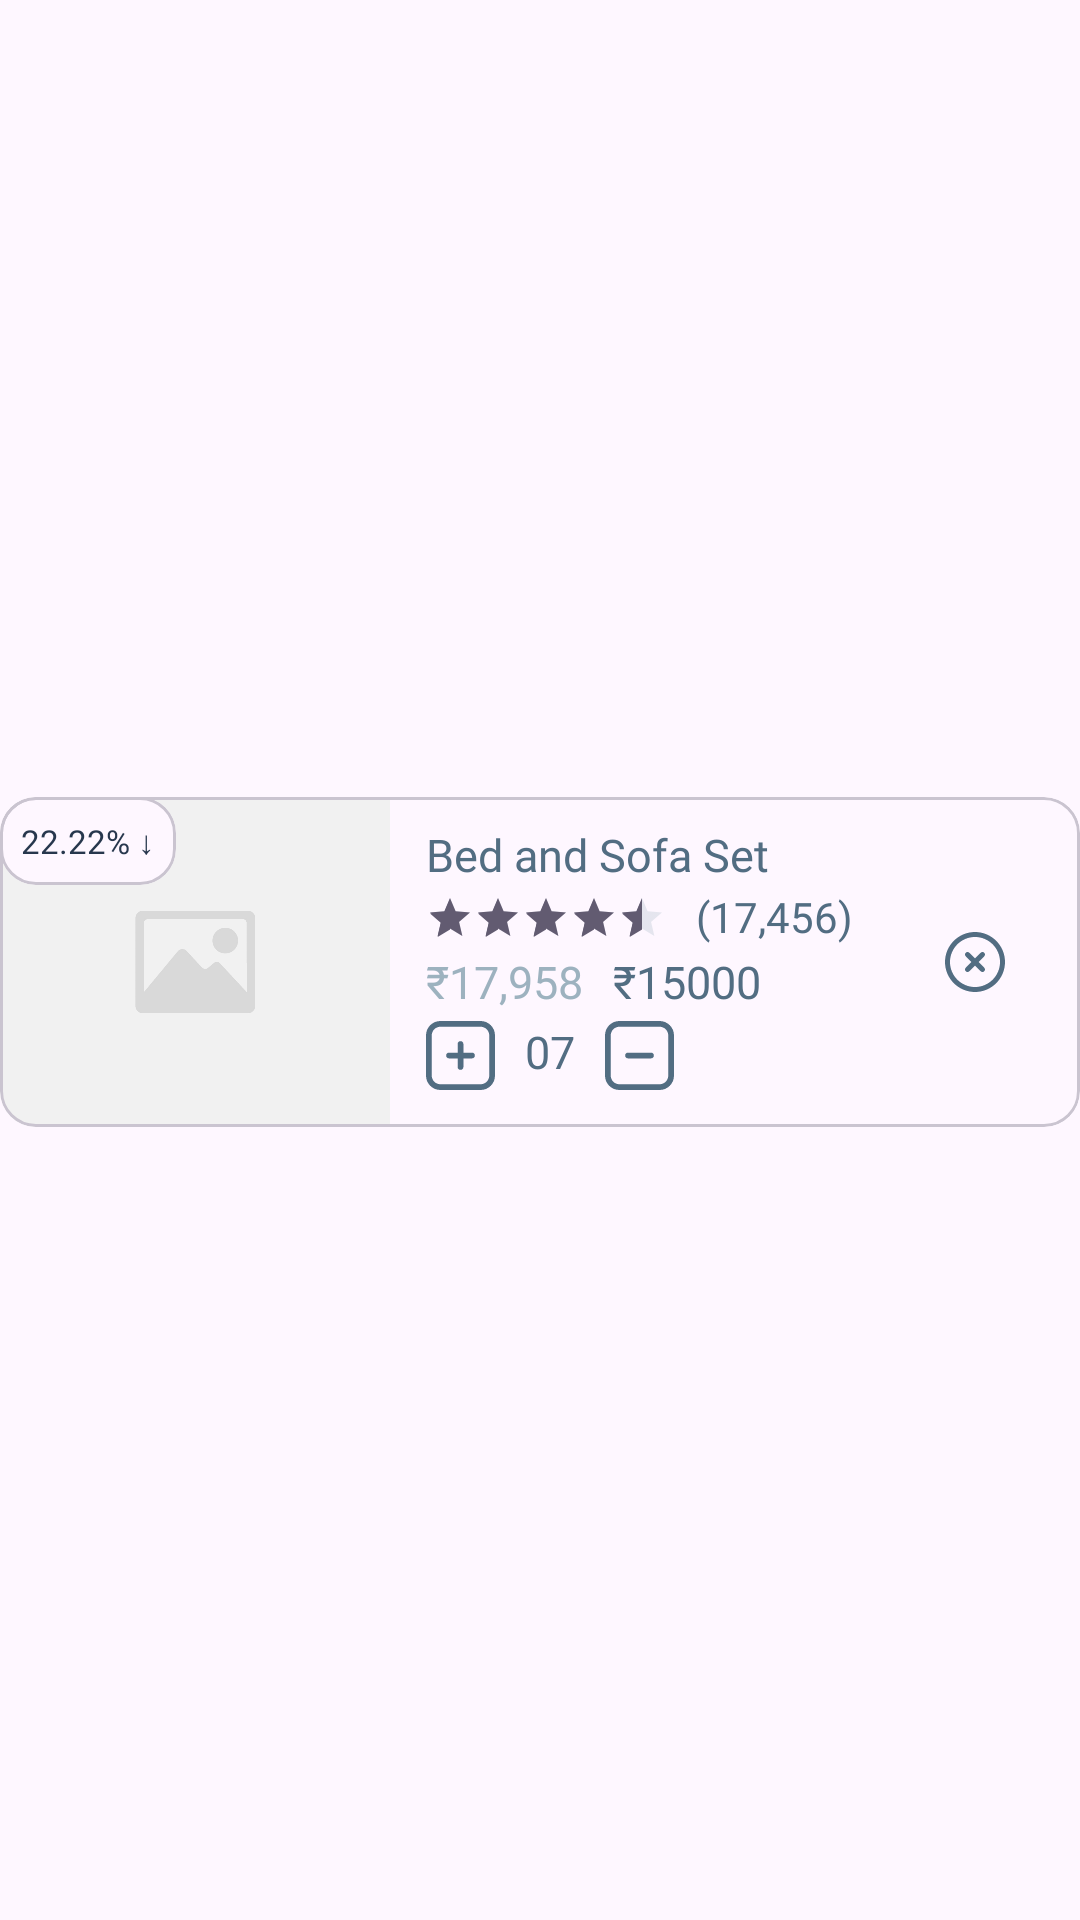

Where icons sit on this 1080 x 1920 app screen, as (x1, y1, x2, y2):
add: (426, 1021, 495, 1090)
delete: (945, 932, 1005, 992)
minus: (605, 1021, 674, 1090)
